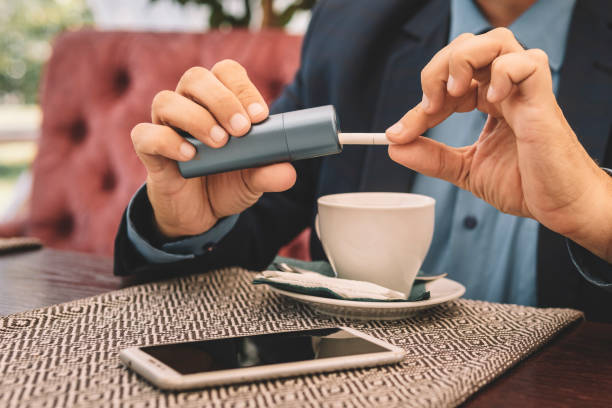cigarette: (173, 105, 399, 181)
